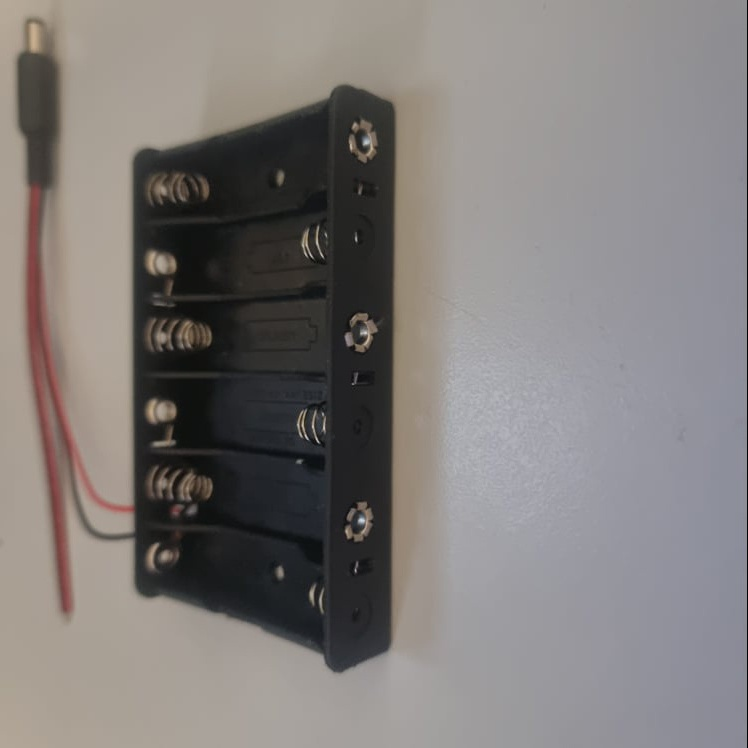BATTERY BOX: (130, 85, 396, 675)
